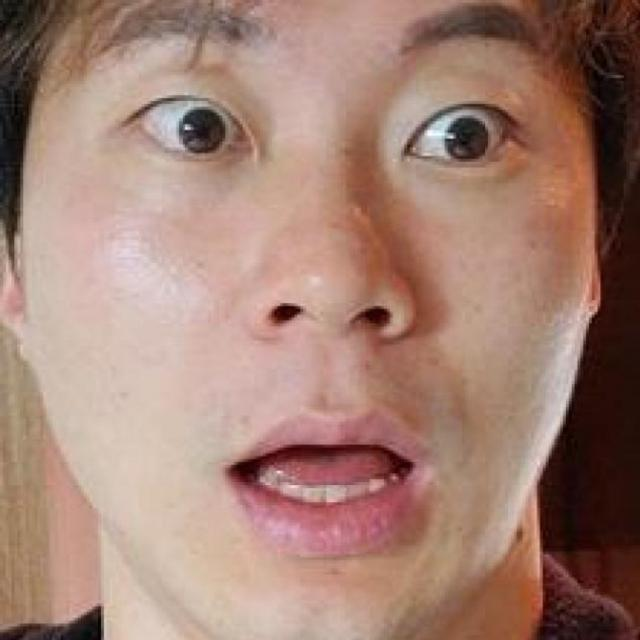Surprised: (76, 2, 555, 608)
